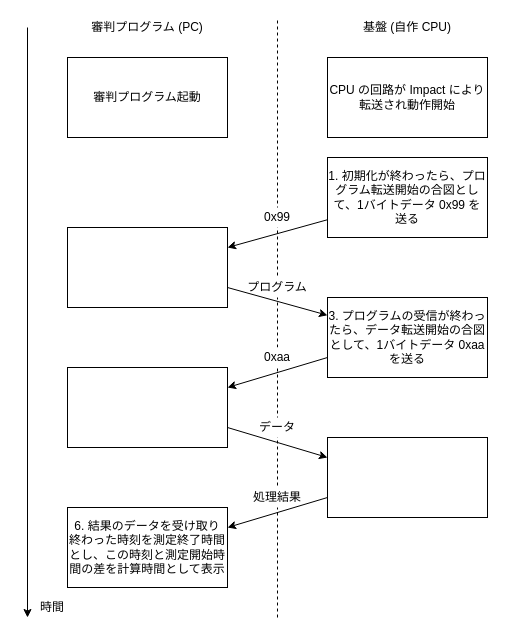
The diagram is 514 pixels wide and 643 high, and some of its shapes have lost their labels. The shapes that lost their labels are listed below. From the top down, each one's box as (x1, y1, x2, y2) in pixels, then its label:
(66, 226, 228, 308): 2. 0x99 を受信したら、現在の時刻を測定開始時間として記録。続いてプログラムをバイナリ形式で送る
(66, 366, 228, 448): 4. 0xaa を受信したら、現在の時刻を測定開始時間として記録。続いてデータをバイナリ形式で送る
(326, 436, 488, 518): 5. データをもとに CPU で処理を行い、その結果を送る
